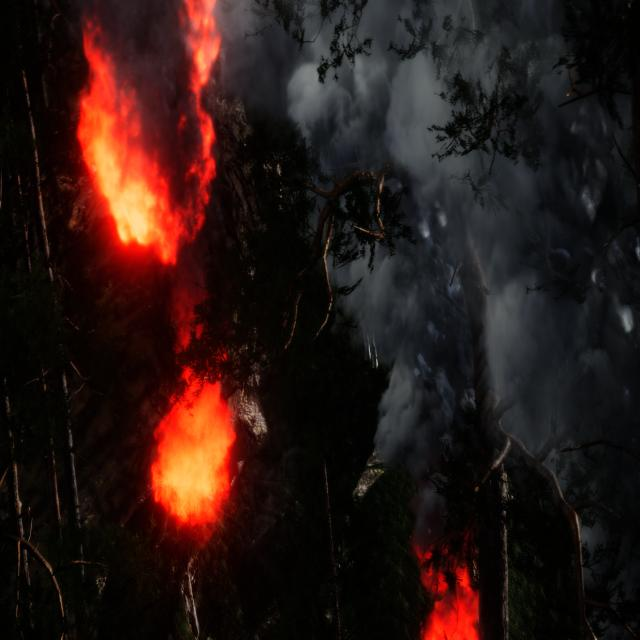Human: (354, 248, 383, 378)
